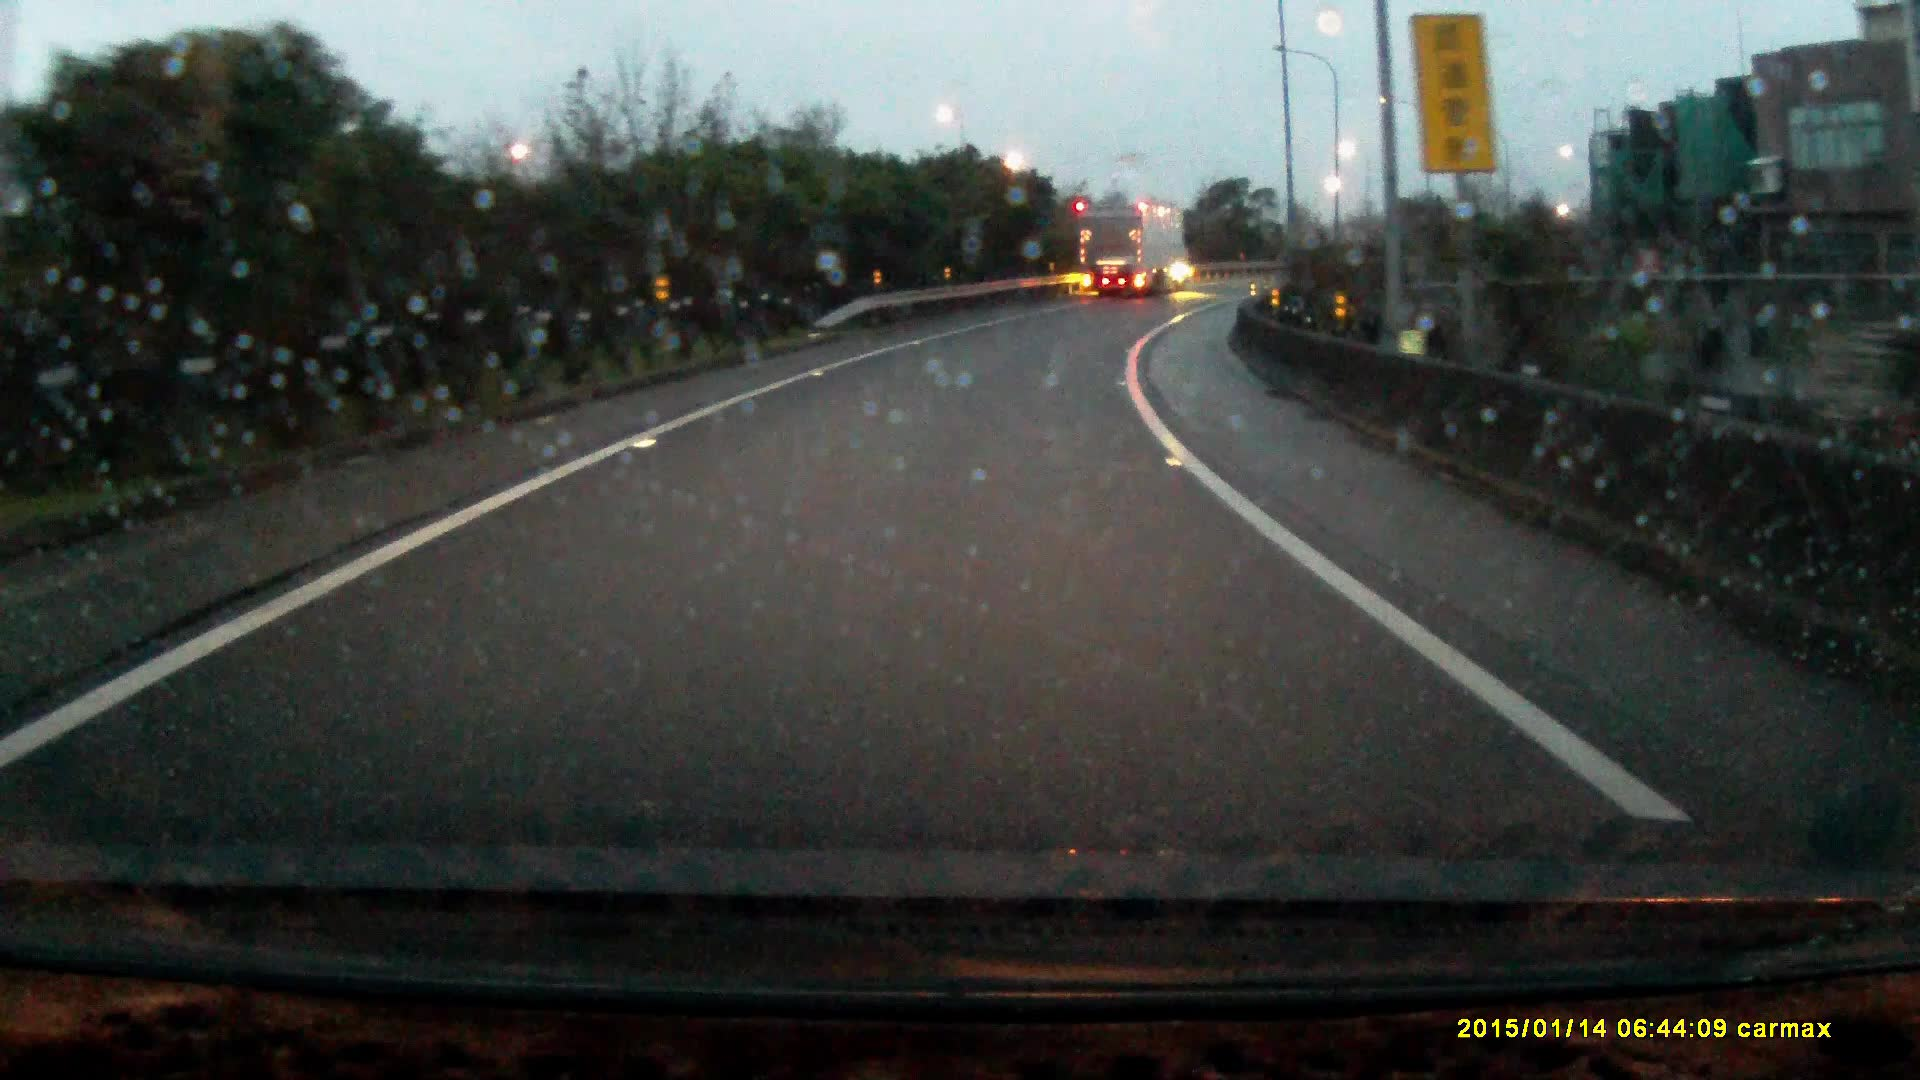vehicle: (1077, 199, 1195, 298)
